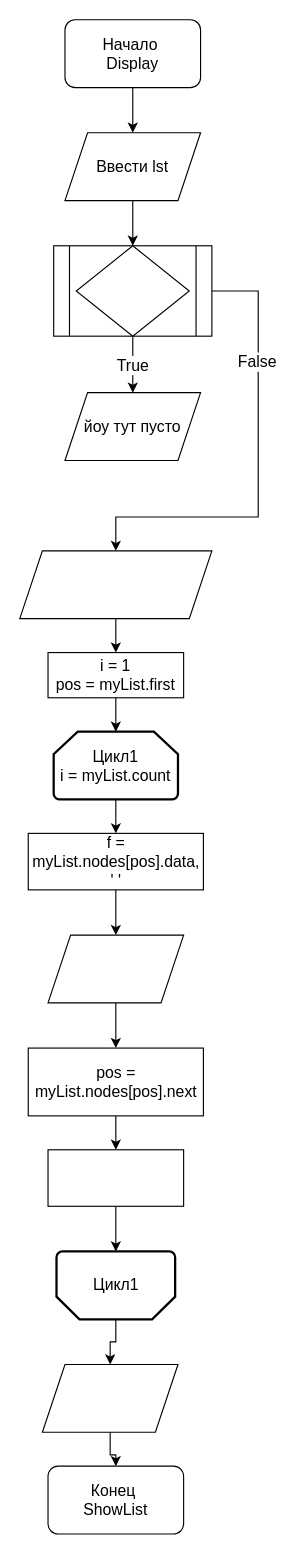
This 295x1554 diagram has some shape labels left out. Each missing label, with the box of its shape:
i+=1: (47, 1149, 184, 1206)
IsEmpty(list): (75, 245, 189, 336)
Вот что в списке:: (19, 550, 212, 619)
Всего элементов myList.count: (41, 1363, 178, 1432)
Вывести f: (47, 934, 184, 1003)
